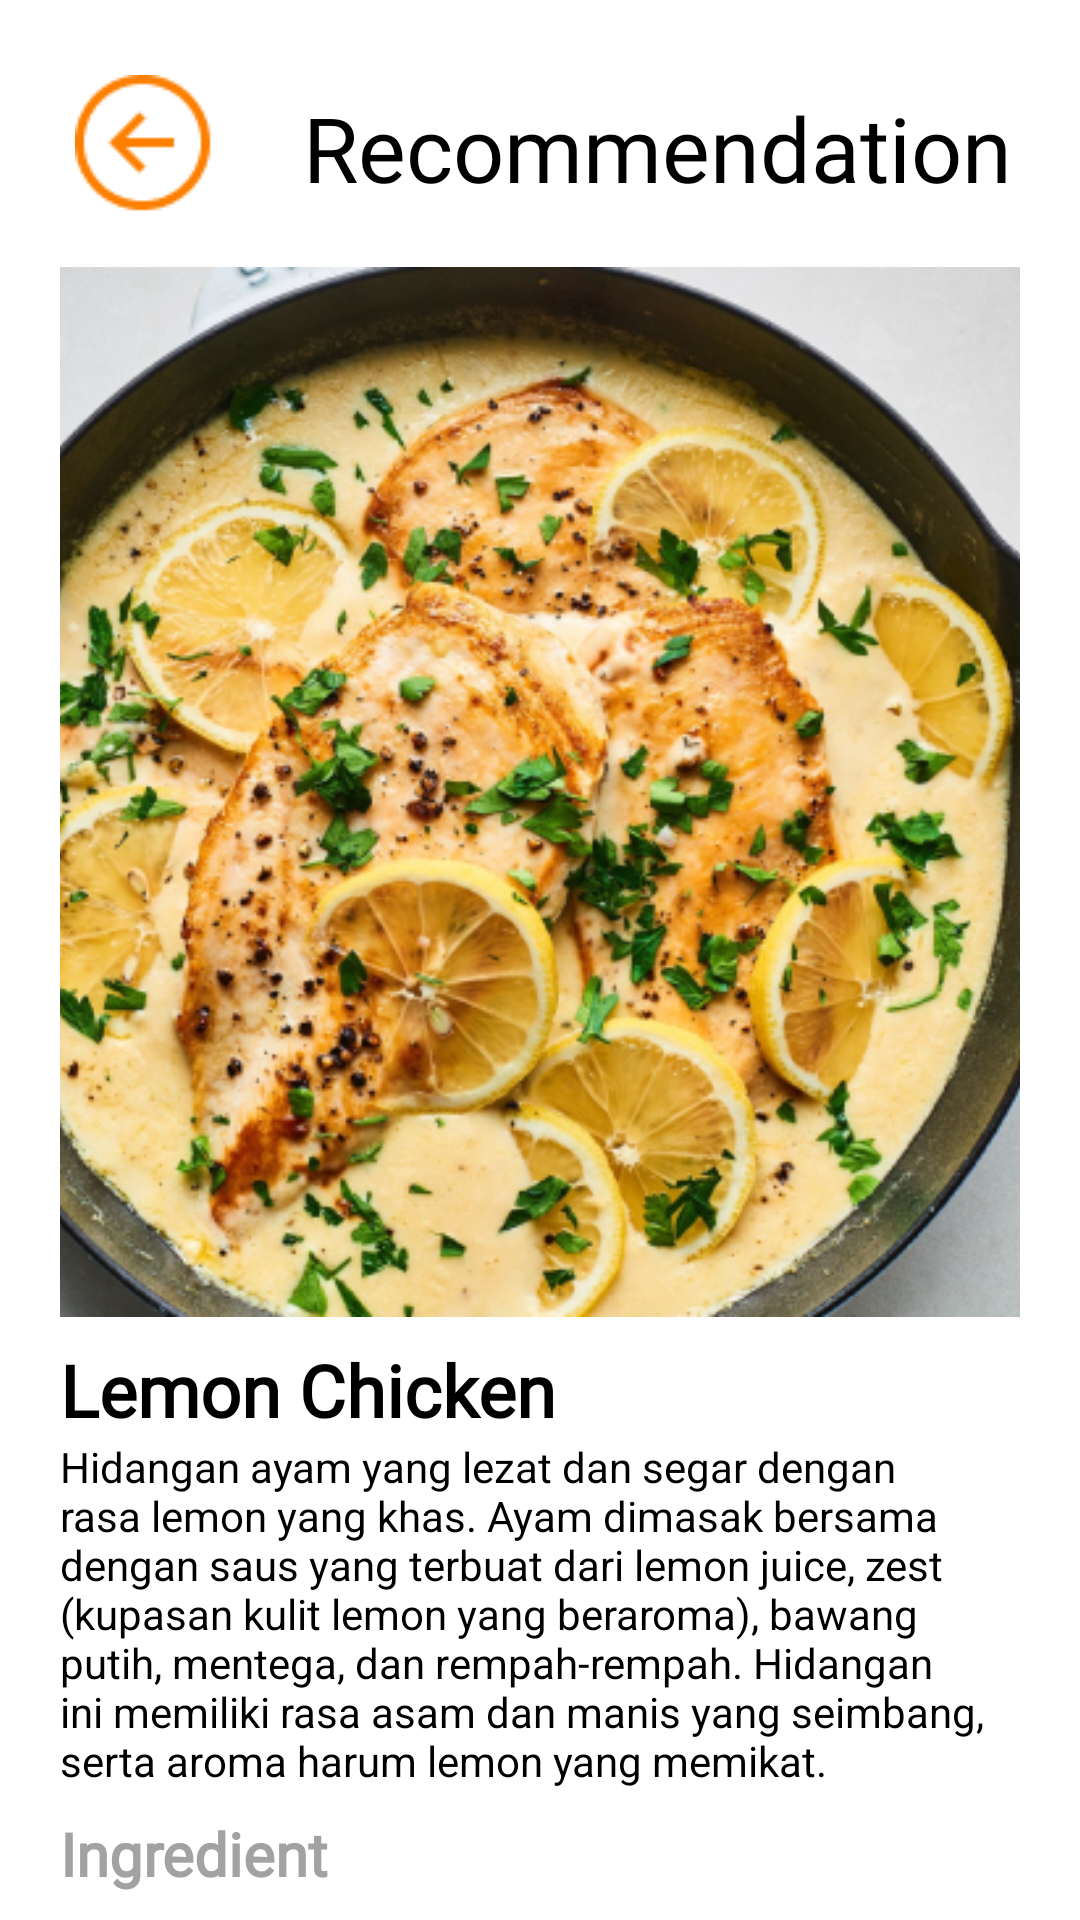

Icons on this 1080w x 1920h Android screen, each with its box as detection(x1, y1, x2, y2):
Back: detection(75, 75, 211, 211)
